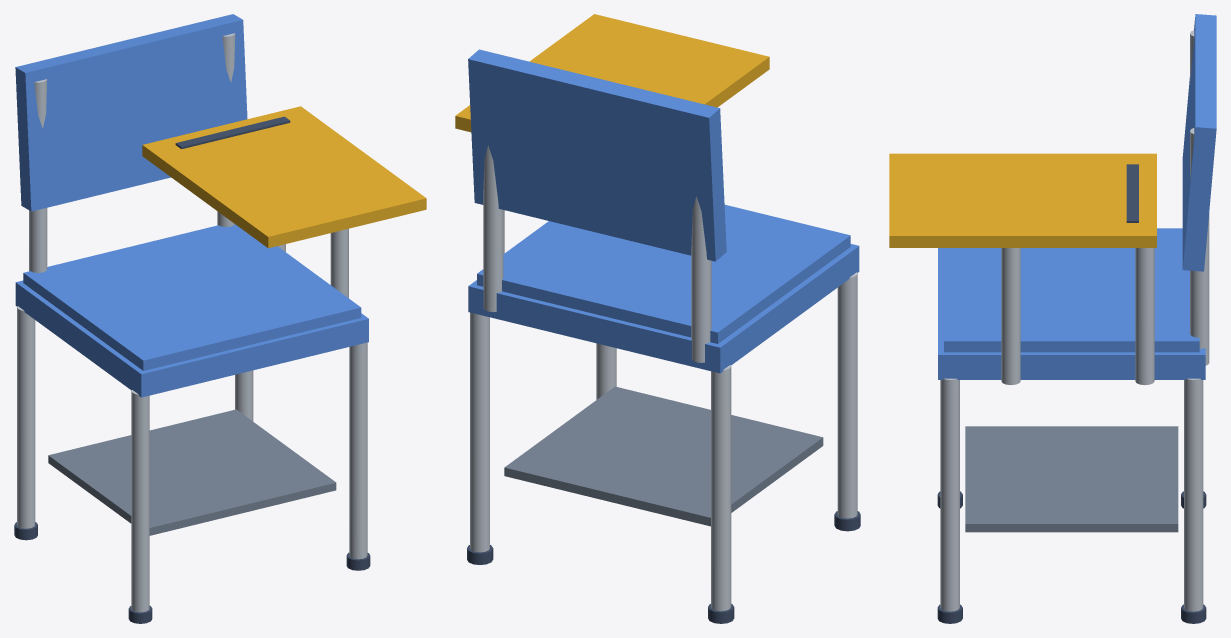
The model's file is kursi_kuliah.glb.
3 views of the same model, side by side, from view 1: azimuth 30°, elevation 25°; view 2: azimuth 150°, elevation 25°; view 3: azimuth 270°, elevation 25° (orthographic). The views are drawn at different scales.
Visible parts, largest first — view 1: Kursi_Kuliah_Mahasiswa; view 2: Kursi_Kuliah_Mahasiswa; view 3: Kursi_Kuliah_Mahasiswa.
Part boxes in pixels (x1=…): Kursi_Kuliah_Mahasiswa: x1=14, y1=14, x2=426, y2=623; Kursi_Kuliah_Mahasiswa: x1=455, y1=14, x2=860, y2=623; Kursi_Kuliah_Mahasiswa: x1=889, y1=14, x2=1216, y2=623.
Size of the model in its own units: 0.5408 by 0.891 by 0.5378.
